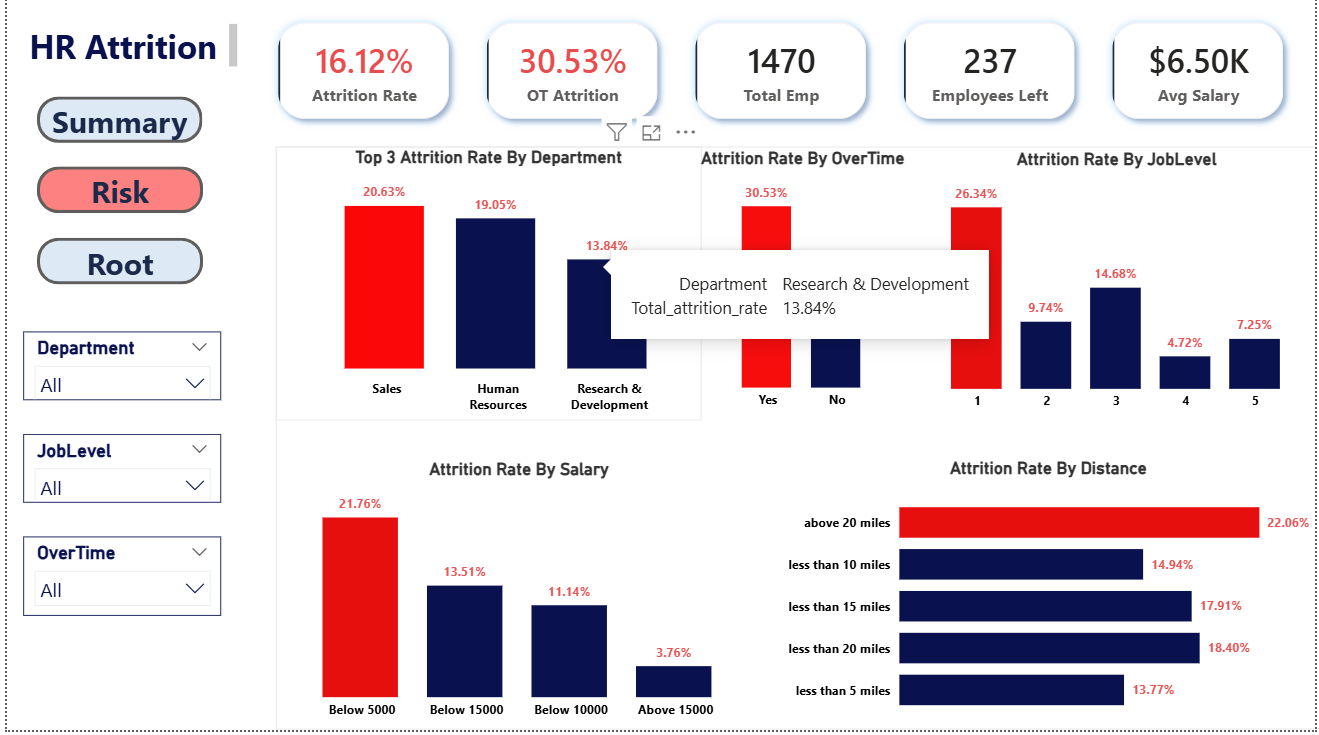

The page's visual inventory and layout, read from the dashboard file:
{"tool":"powerbi","page":{"name":"Hr_dashBoard","canvas":[1280,720],"ordinal":0},"visuals":[{"type":"group","id":"g1","title":"summary_dashboard","box":[237.4,0,1042.9,720.4],"z":0},{"type":"cardVisual","fields":{"Data":["Table.Total_attrition_rate","Table.OT_Attrition_Rate","Table.Total_employees","Table.Employees_left","Table.Avg_salary"]},"box":[237.4,0,1042.9,150.9],"z":0,"group":"g1"},{"type":"actionButton","box":[29.4,100.4,161.9,45.3],"z":0,"group":"g4"},{"type":"clusteredColumnChart","title":"Top 3 Attrition Rate By Department","fields":{"Y":["Table.Total_attrition_rate"],"Category":["hr_data hr_data.Department"]},"box":[262.9,149.5,416.7,268.4],"z":0,"group":"g2"},{"type":"slicer","fields":{"Values":["hr_data hr_data.JobLevel"]},"box":[15.6,431.1,193.9,67.5],"z":0,"group":"g3"},{"type":"group","id":"g2","title":"risk","box":[262.9,149.5,1017.4,569.1],"z":1000},{"type":"clusteredColumnChart","title":" Attrition Rate By  OverTime","fields":{"Y":["Table.Total_attrition_rate"],"Category":["hr_data hr_data.OverTime"]},"box":[653.2,150.9,251.1,264.8],"z":1000,"group":"g2"},{"type":"actionButton","box":[29.4,169.2,162.5,45.6],"z":1000,"group":"g4"},{"type":"slicer","fields":{"Values":["hr_data hr_data.Department"]},"box":[15.6,330.7,193.9,67.5],"z":1000,"group":"g3"},{"type":"actionButton","box":[29.4,238.4,162.5,45.6],"z":2000,"group":"g4"},{"type":"barChart","title":"Attrition Rate By Distance","fields":{"Category":["hr_data hr_data.distance"],"Y":["Table.Total_attrition_rate"]},"box":[758.5,453.6,521.2,264.9],"z":2000,"group":"g2"},{"type":"slicer","fields":{"Values":["hr_data hr_data.OverTime"]},"box":[15.6,531.6,193.9,77.9],"z":2000,"group":"g3"},{"type":"textbox","box":[3.5,24.2,226.8,51.9],"z":3000},{"type":"clusteredColumnChart","title":"Attrition Rate By  Salary","fields":{"Y":["Table.Total_attrition_rate"],"Category":["hr_data hr_data.salary band"]},"box":[263.2,455.4,476.2,263.2],"z":3000,"group":"g2"},{"type":"clusteredColumnChart","title":"Attrition Rate By JobLevel","fields":{"Y":["Table.Total_attrition_rate"],"Category":["hr_data hr_data.JobLevel"]},"box":[891.9,152.3,388.3,264.8],"z":4000,"group":"g2"},{"type":"group","id":"g3","title":"slicers","box":[15.6,330.7,193.9,278.8],"z":5000},{"type":"group","id":"g4","title":"Riskbuttons","box":[29.4,100.4,162.8,183.6],"z":7000}]}

Visuals, with their boxes in screenshot pixels (x1, y1, x2, y2), scaled from the page's 1280x720 canvas onto the 1319x735 screenshot:
"summary_dashboard" group: [245, 0, 1318, 734]
cardVisual - Table.Total_attrition_rate x Table.OT_Attrition_Rate: [245, 0, 1318, 154]
actionButton: [30, 102, 197, 149]
"Top 3 Attrition Rate By Department" clusteredColumnChart: [271, 153, 700, 427]
slicer - hr_data hr_data.JobLevel: [16, 440, 216, 509]
"risk" group: [271, 153, 1318, 734]
" Attrition Rate By  OverTime" clusteredColumnChart: [673, 154, 932, 424]
actionButton: [30, 173, 198, 219]
slicer - hr_data hr_data.Department: [16, 338, 216, 406]
actionButton: [30, 243, 198, 290]
"Attrition Rate By Distance" barChart: [782, 463, 1318, 733]
slicer - hr_data hr_data.OverTime: [16, 543, 216, 622]
textbox: [4, 25, 237, 78]
"Attrition Rate By  Salary" clusteredColumnChart: [271, 465, 762, 734]
"Attrition Rate By JobLevel" clusteredColumnChart: [919, 155, 1318, 426]
"slicers" group: [16, 338, 216, 622]
"Riskbuttons" group: [30, 102, 198, 290]
